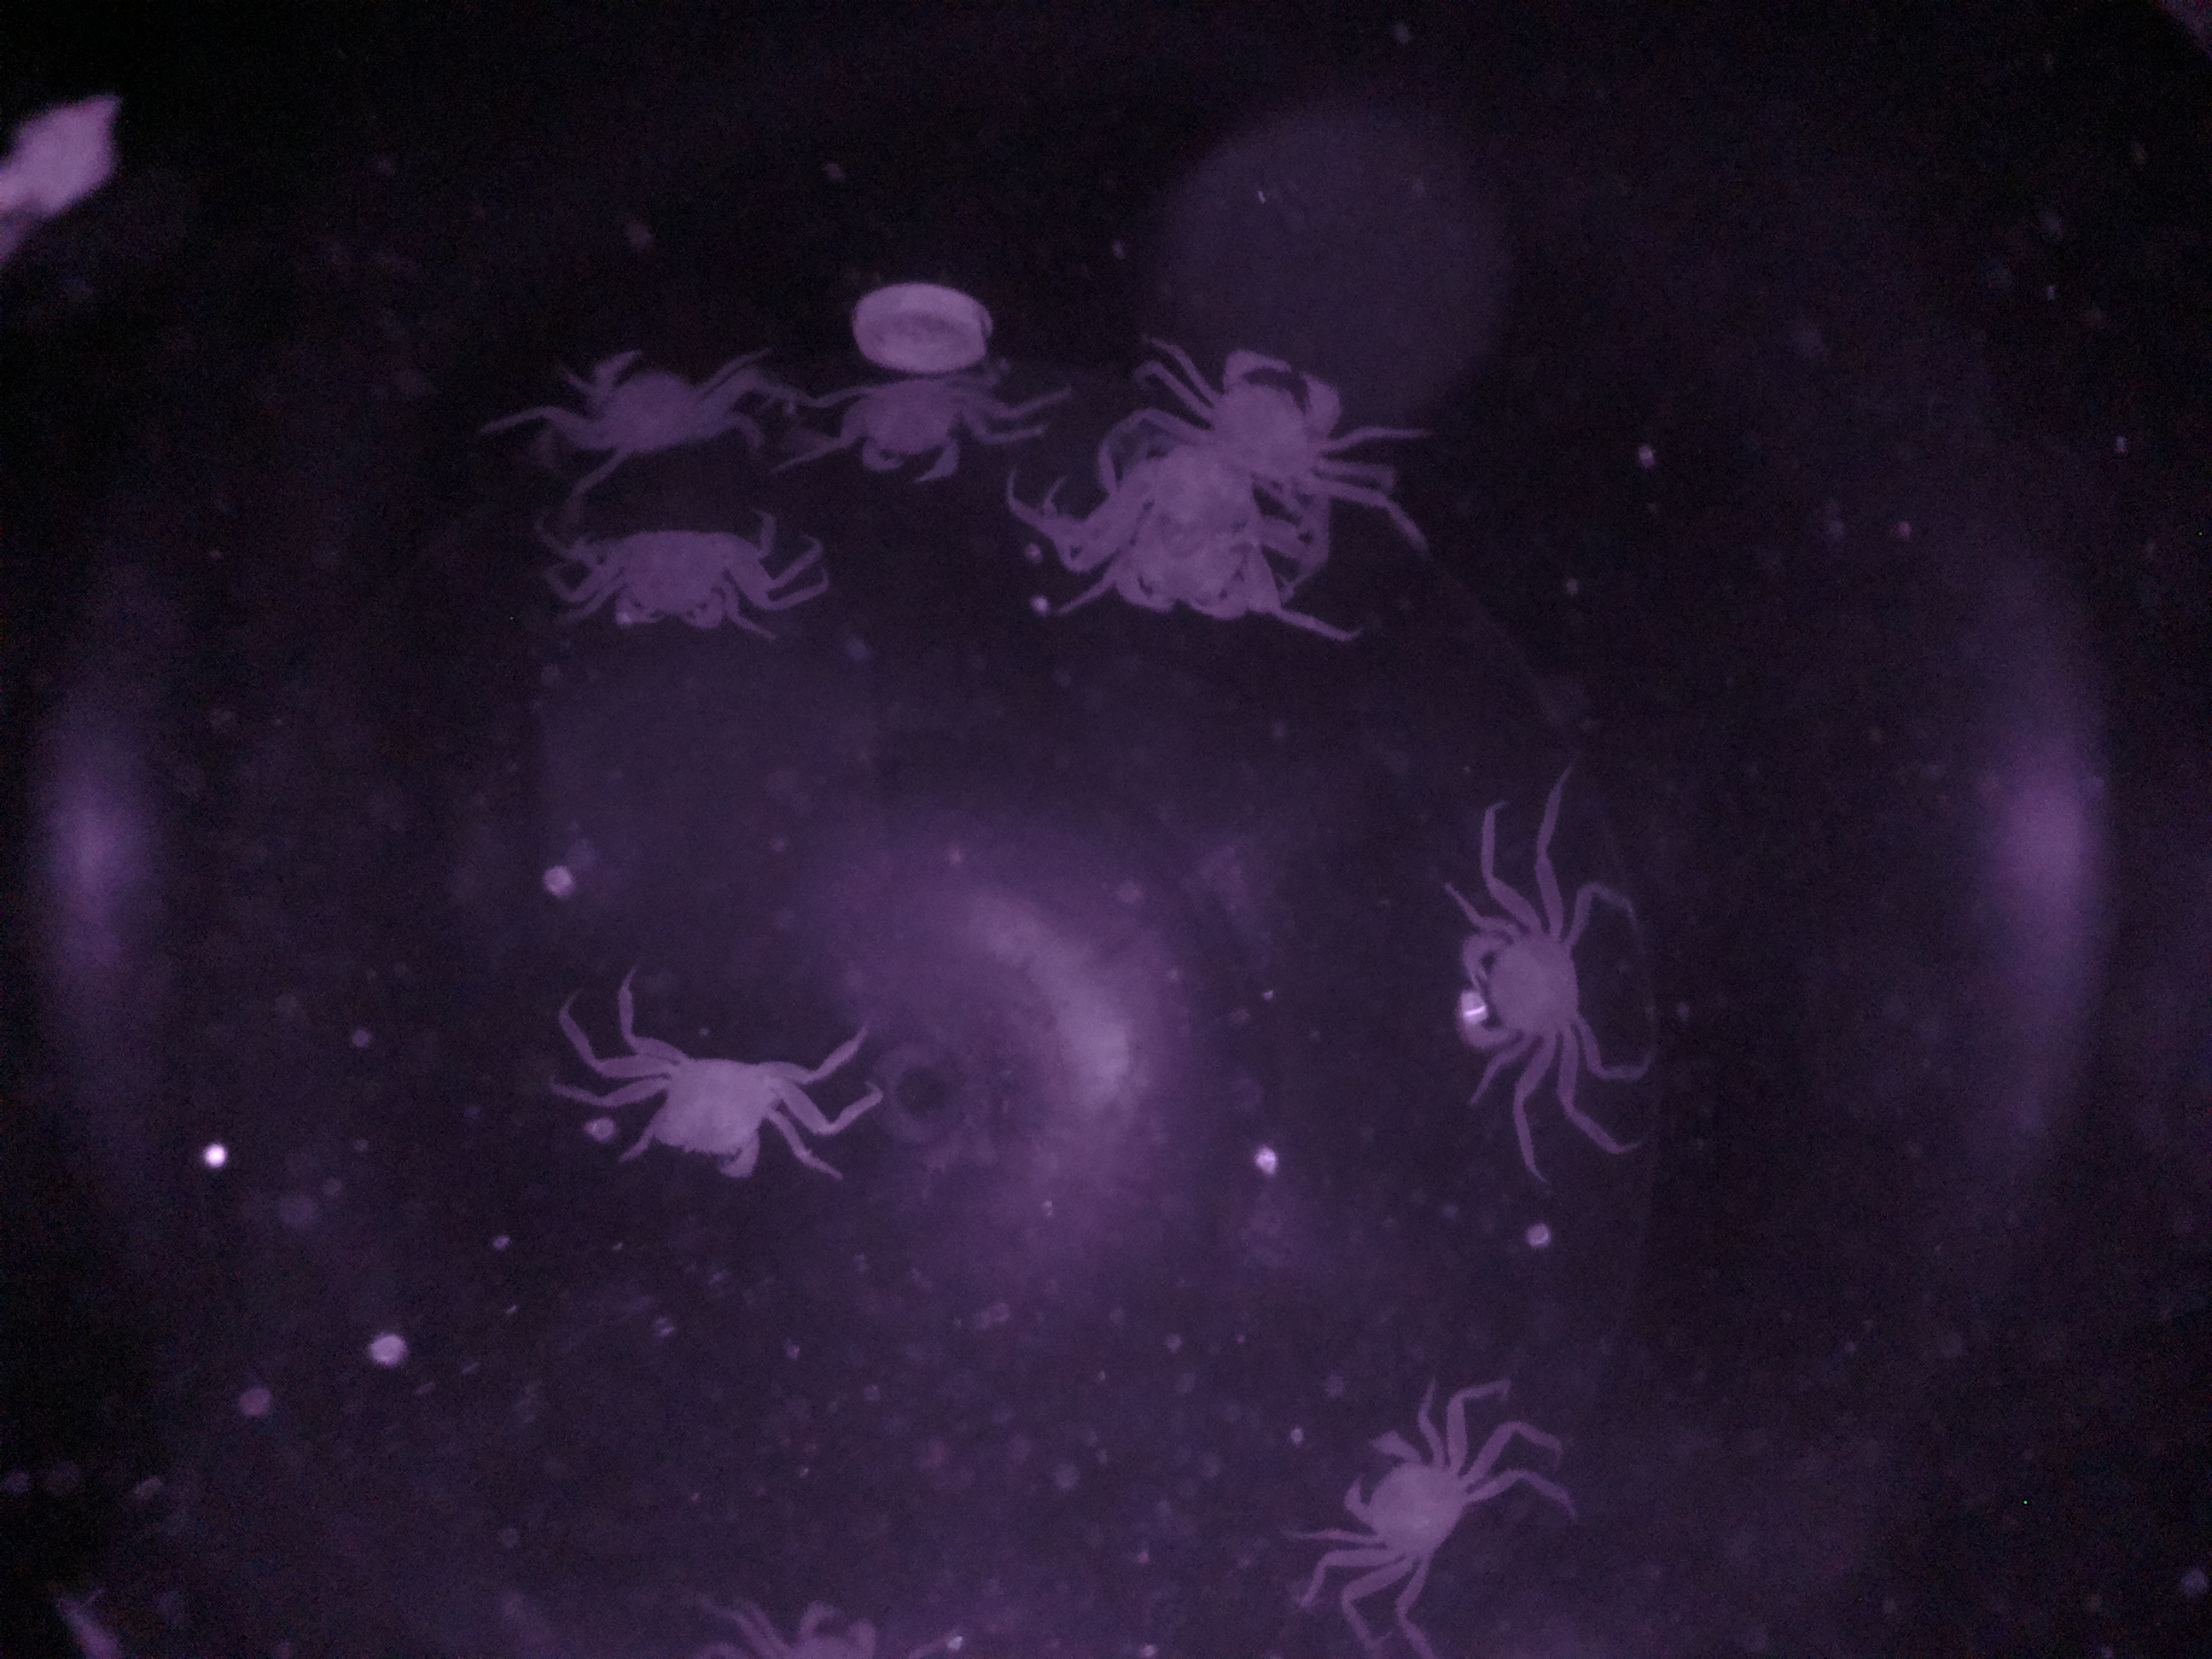Crab: (557, 504, 817, 659), (1310, 1401, 1505, 1596), (596, 1014, 815, 1175), (1446, 871, 1606, 1089), (1193, 317, 1362, 502), (812, 331, 993, 488)
